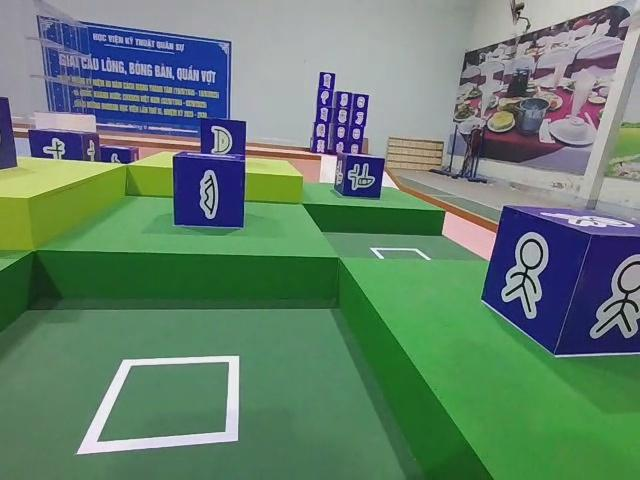R2 Real Blue: (483, 207, 639, 360), (174, 150, 249, 229), (28, 130, 100, 164), (335, 153, 385, 199), (199, 120, 246, 163), (0, 101, 16, 179)
